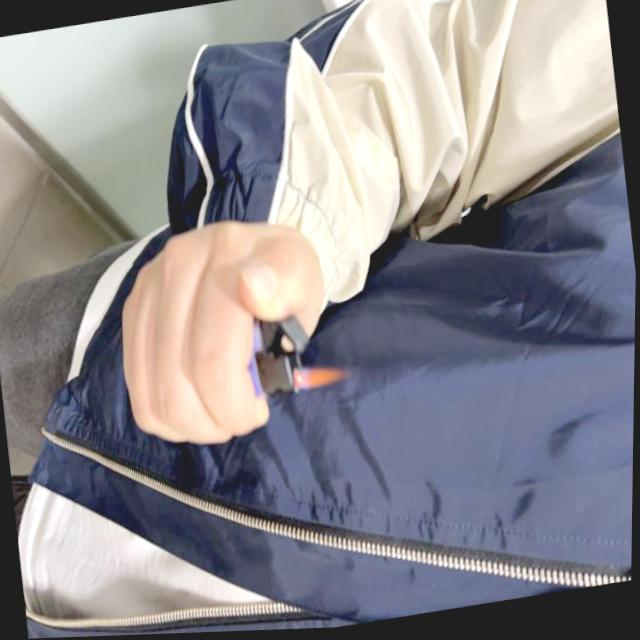helmet: (291, 362, 346, 393)
